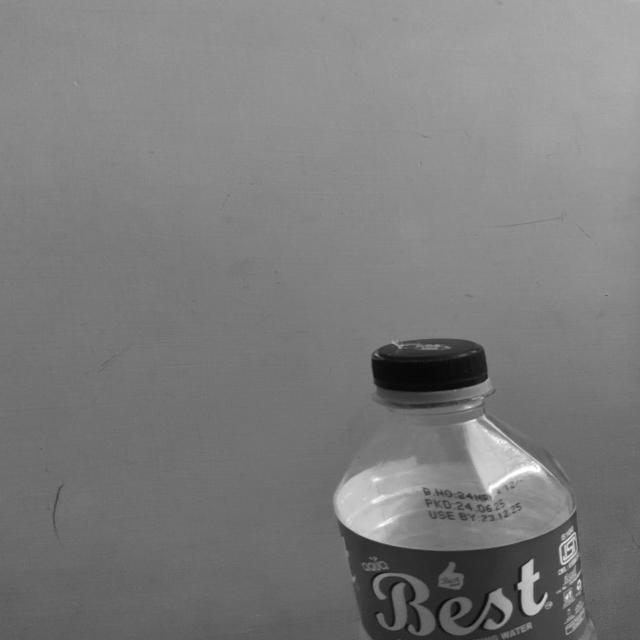Good-cap-Df0S: (369, 336, 493, 404)
